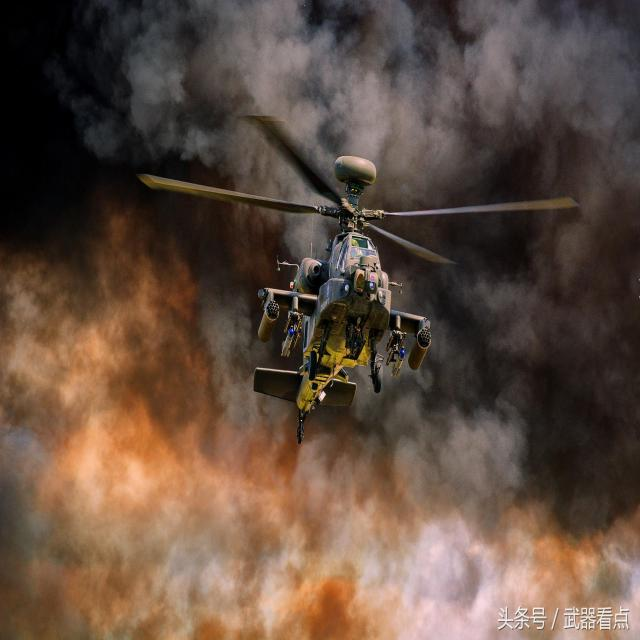MIL_HELO: (137, 105, 585, 428)
